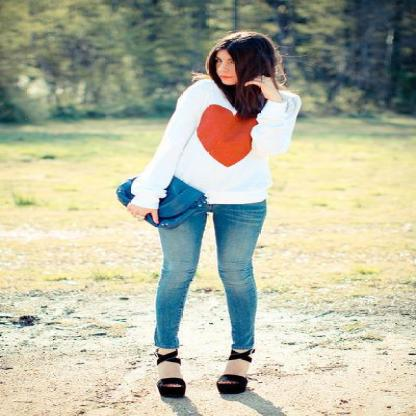bag: (116, 175, 207, 229)
pants: (154, 200, 265, 352)
shirt: (126, 75, 300, 207)
shoe: (157, 349, 257, 398)
